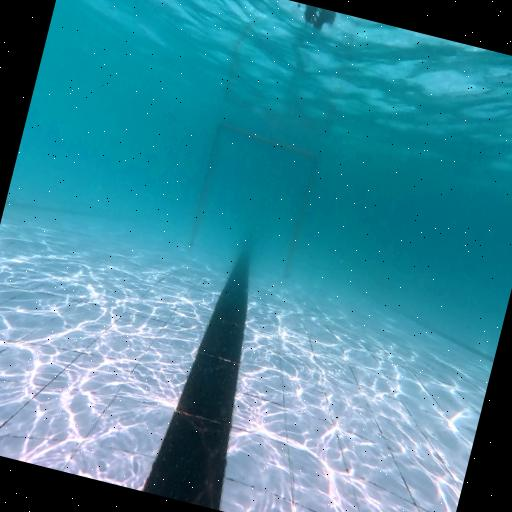gate: (186, 123, 322, 278)
